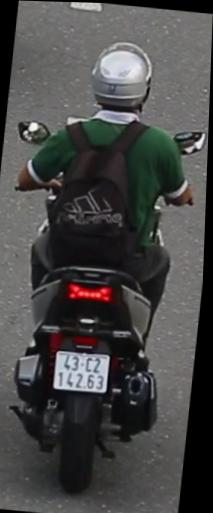LP: (51, 346, 115, 398)
helmet: (86, 33, 158, 128)
